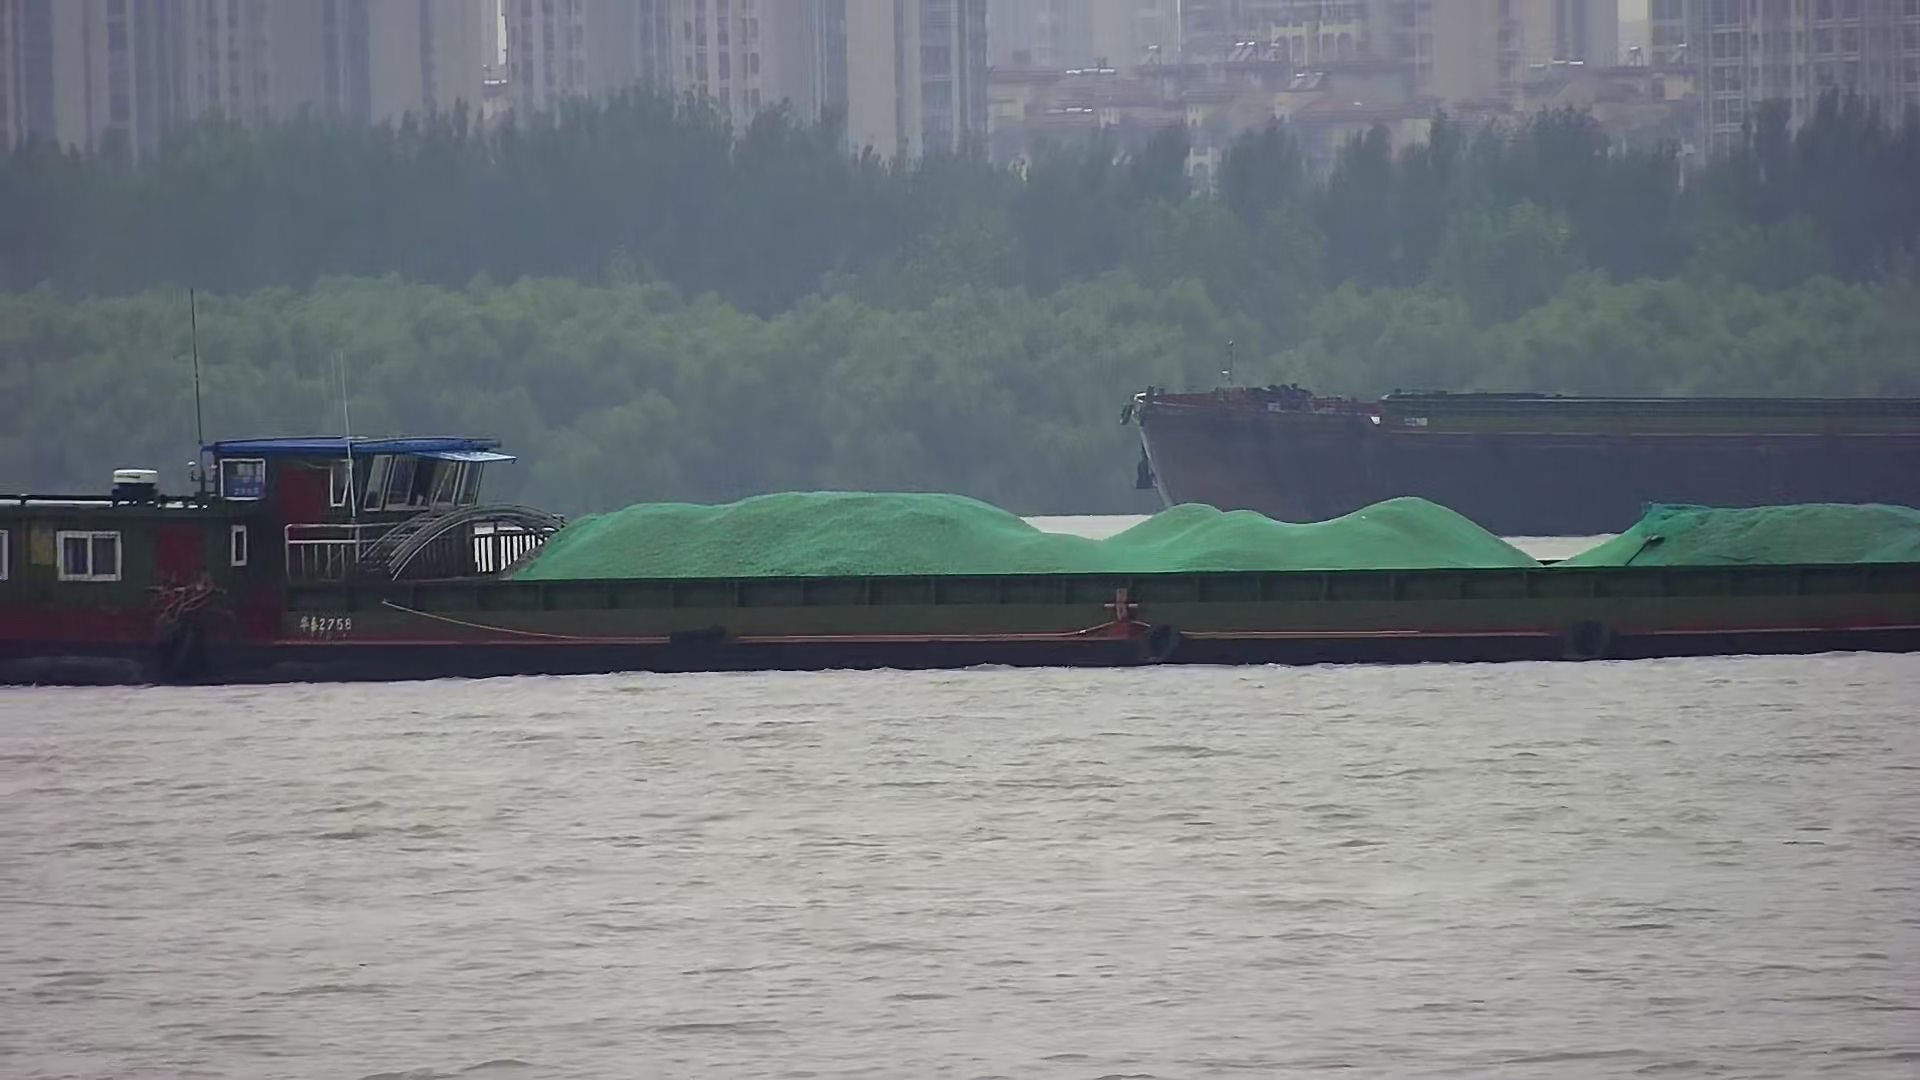ship: (1, 287, 1920, 684), (1121, 368, 1920, 534)
